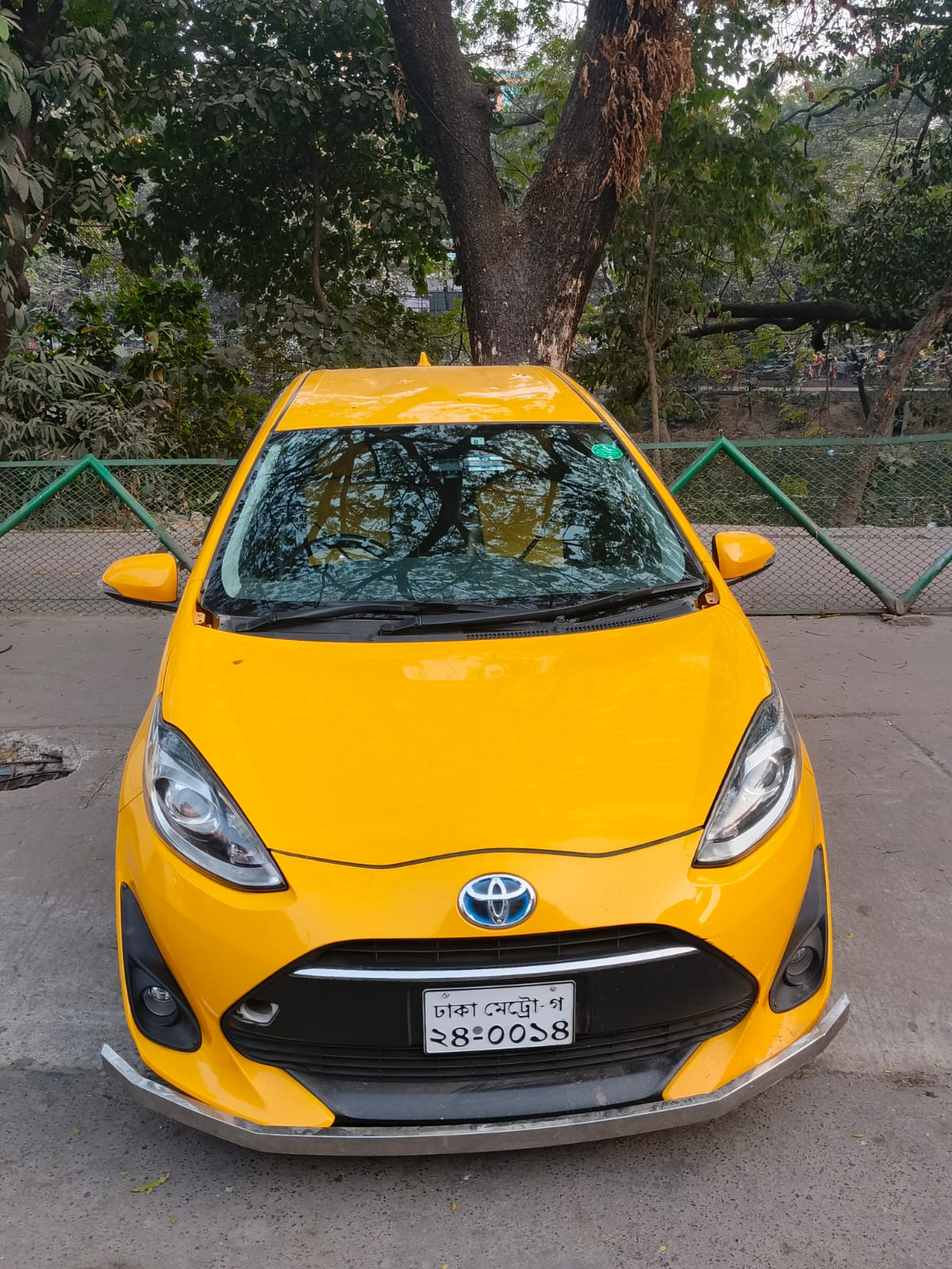private car: (95, 299, 882, 1246)
